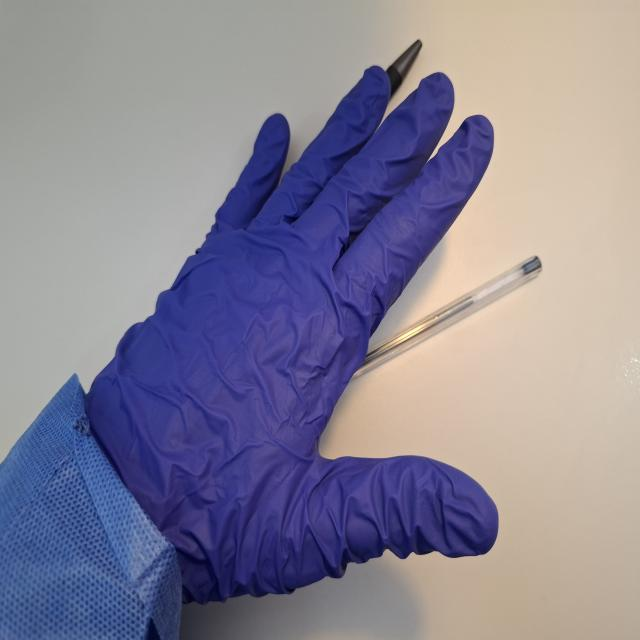glove_on: (81, 61, 503, 608)
